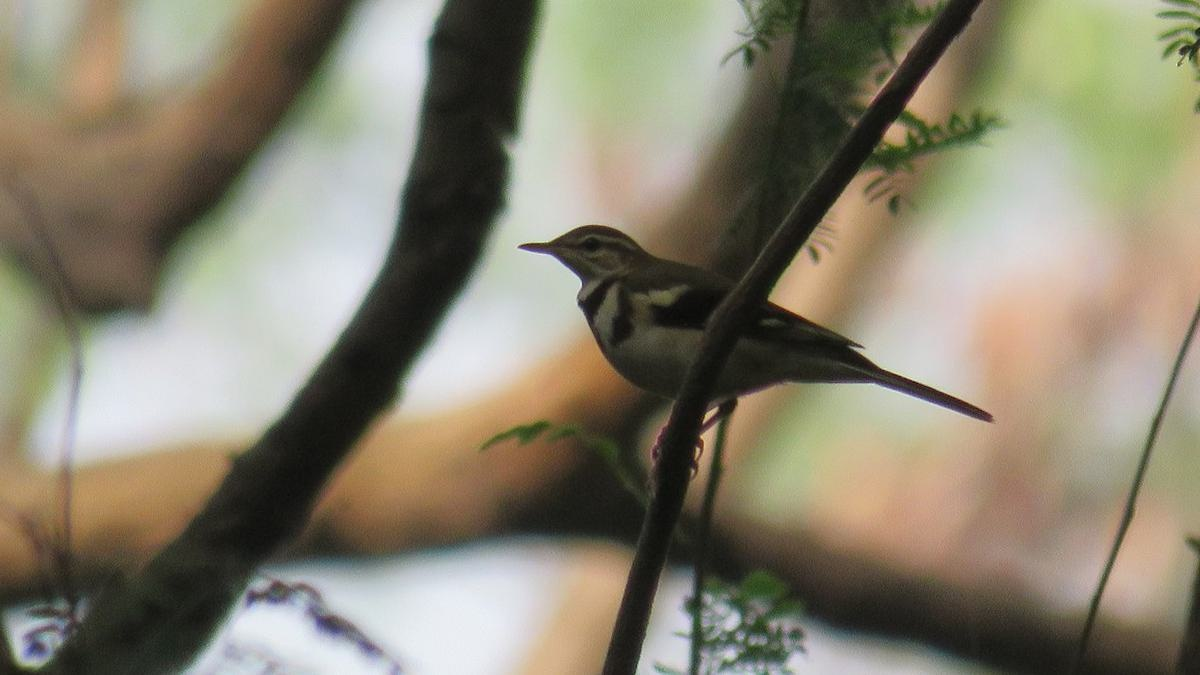wagtail: (514, 202, 954, 432)
